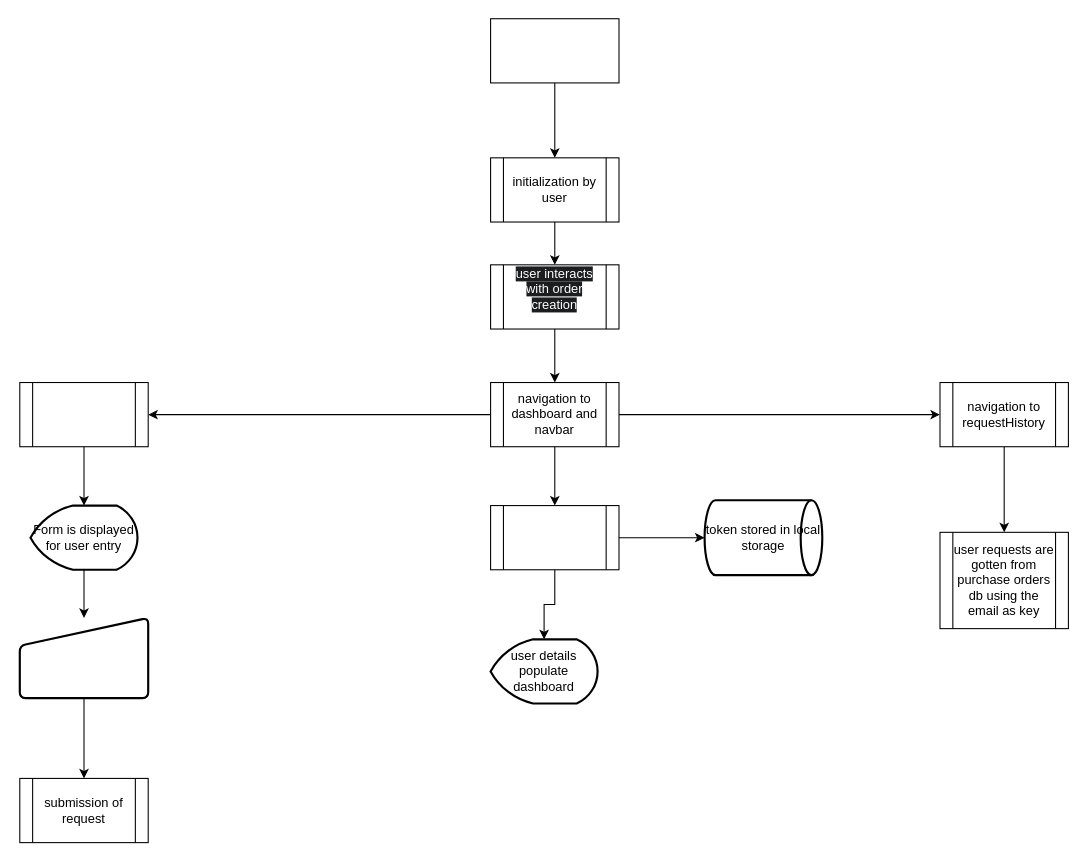
The diagram is 1087 pixels wide and 861 high, and some of its shapes have lost their labels. Here are the shapes that lost their labels. From the top down, the centre of each, then its label:
At (x=554, y=50): "start".
At (x=83, y=414): "navigation to create order".
At (x=554, y=537): "user details gotten from backend".
At (x=83, y=657): "user manually inputs order details".
